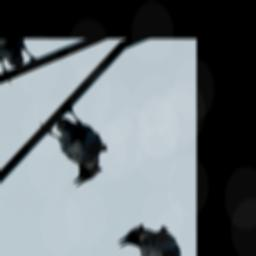Crow: (31, 98, 119, 191)
